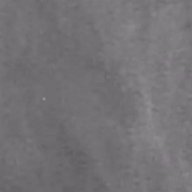Target: (40, 96, 46, 102)
